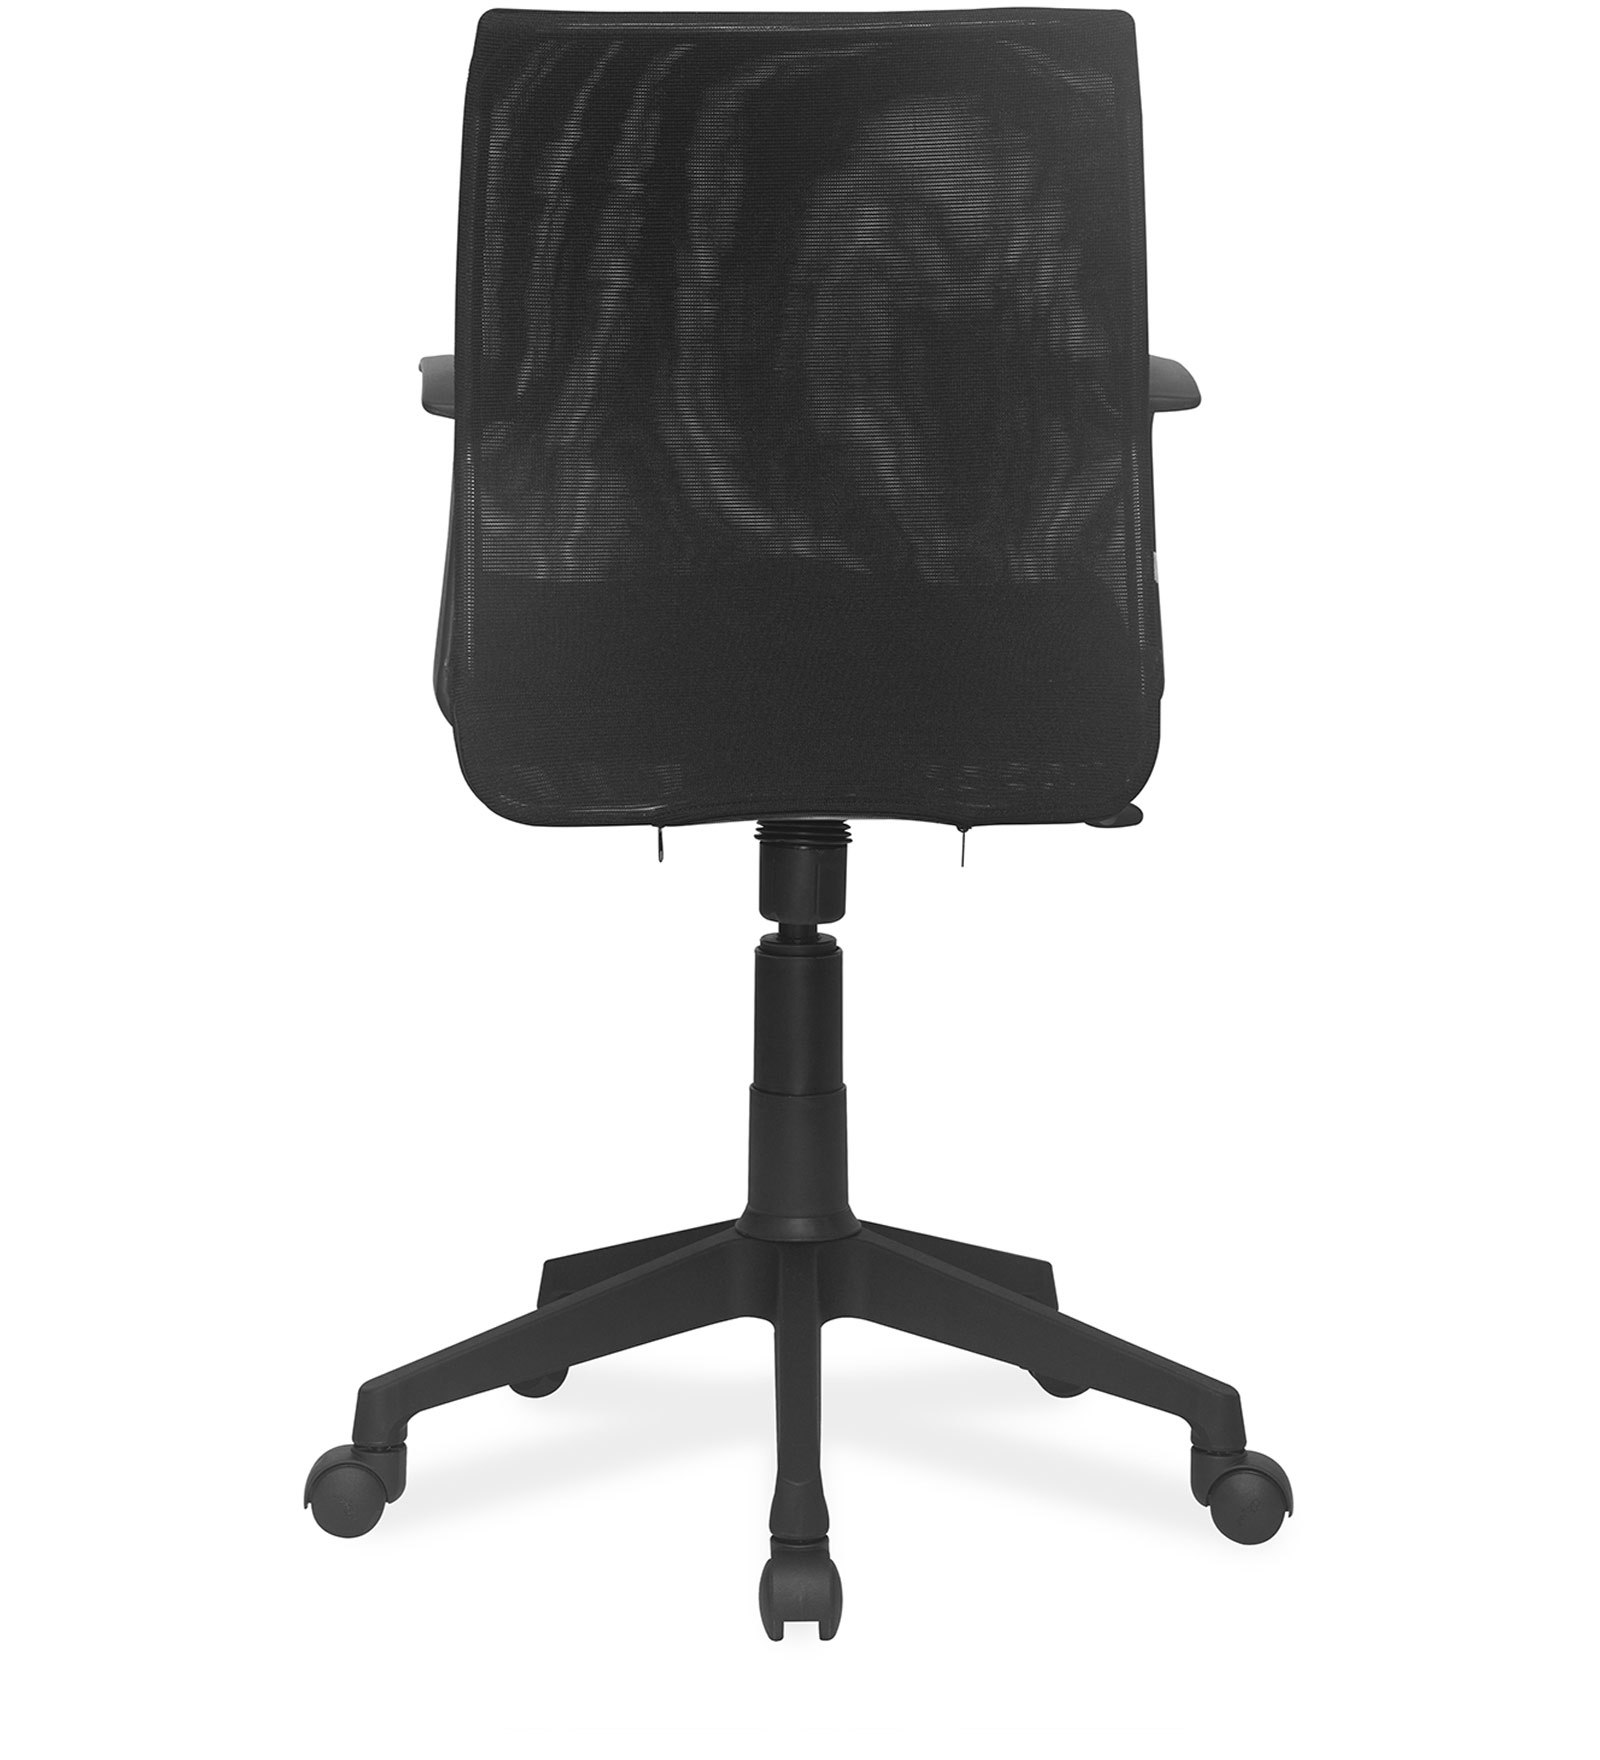Thames Low Back Mesh Office Chair in Black Colour by Nilkamal: (314, 18, 1327, 1670)
